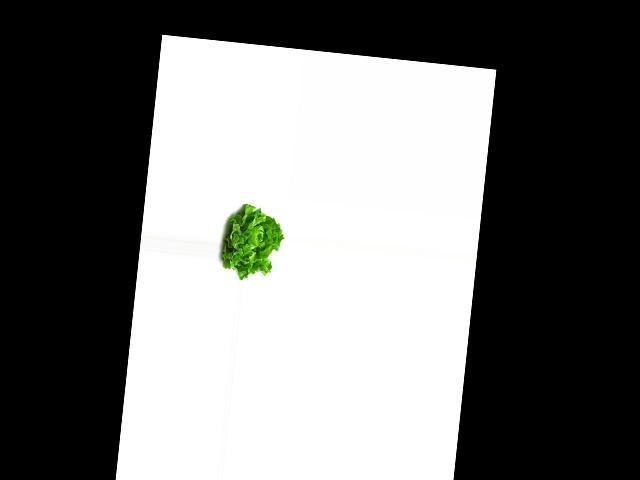lettuce: (217, 203, 286, 283)
